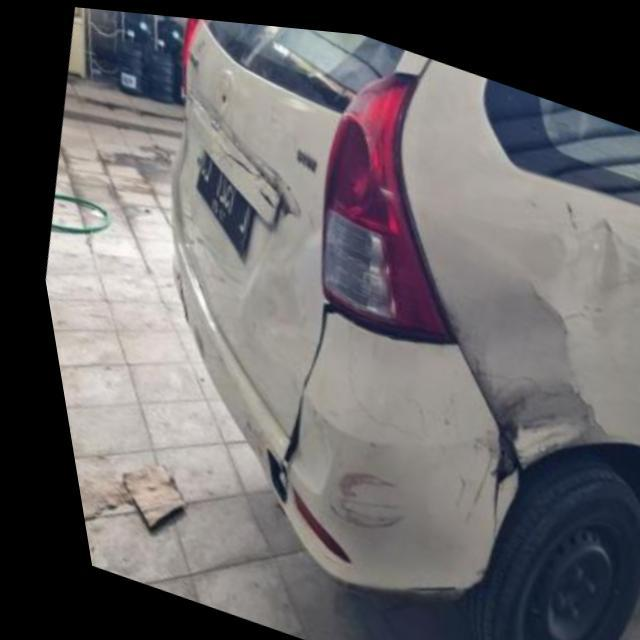dent: (436, 267, 597, 521), (561, 203, 624, 325)
rub: (202, 108, 297, 227), (306, 458, 389, 536)
